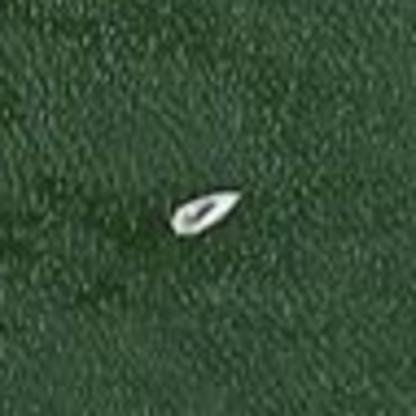ship: (158, 182, 250, 240)
